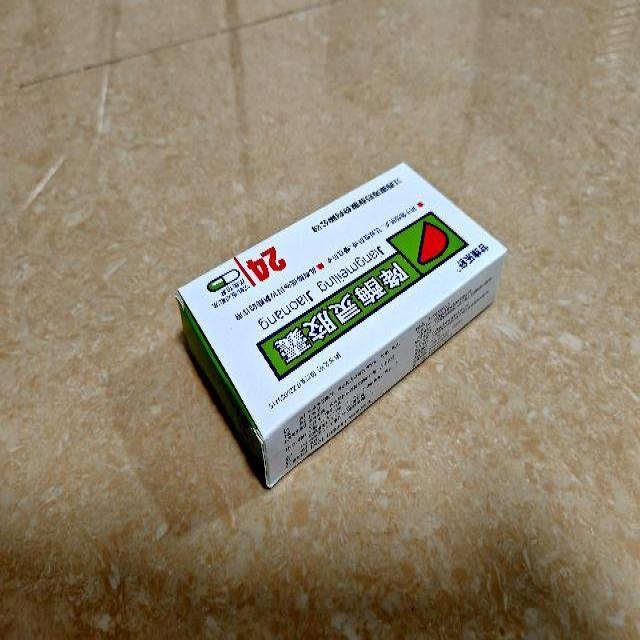box: (176, 163, 508, 490)
